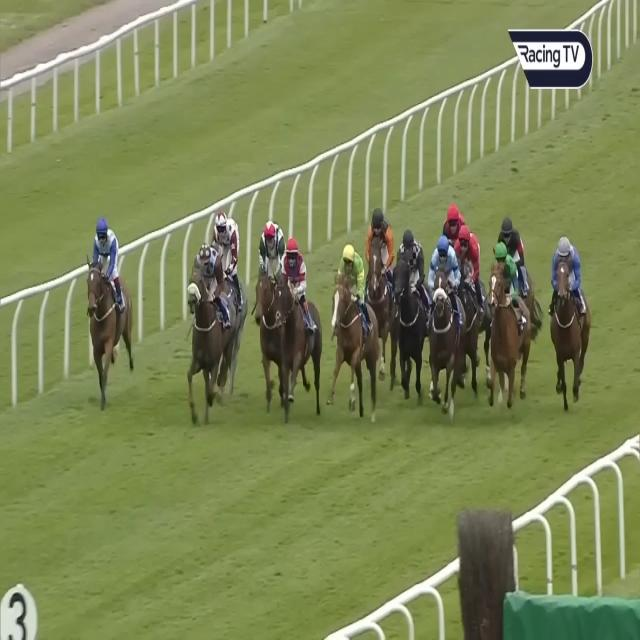horses-racing: (274, 238, 323, 420), (183, 242, 237, 399), (332, 241, 378, 420), (485, 242, 536, 402), (87, 223, 135, 390), (551, 237, 589, 417), (454, 228, 487, 406), (392, 229, 428, 391), (429, 232, 460, 419), (211, 210, 249, 347), (255, 215, 285, 368), (368, 205, 398, 342), (497, 220, 533, 290), (442, 202, 467, 247)
